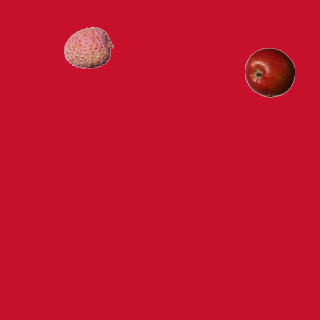Apple Braeburn: (244, 47, 294, 97)
Lychee: (63, 22, 113, 72)
